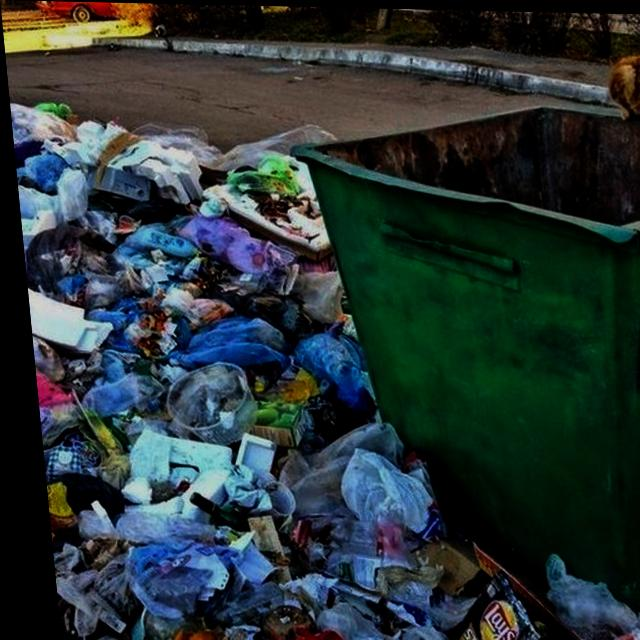Trash_Can_Empty: (293, 106, 640, 600)
